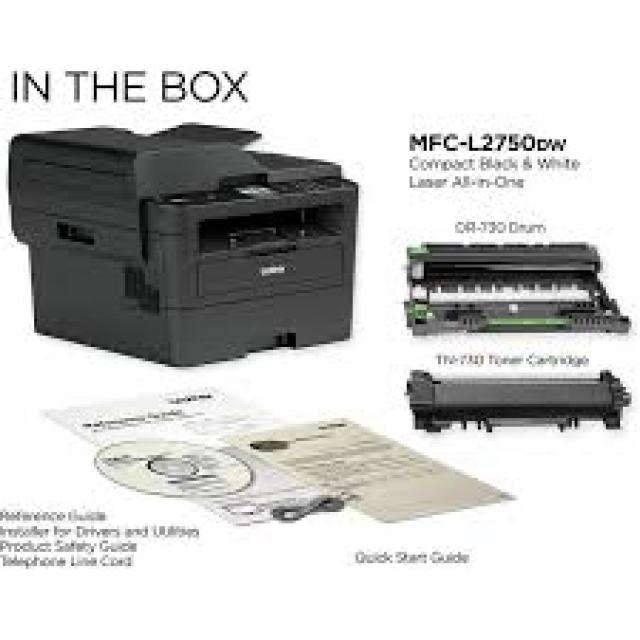printer: (6, 119, 358, 367)
